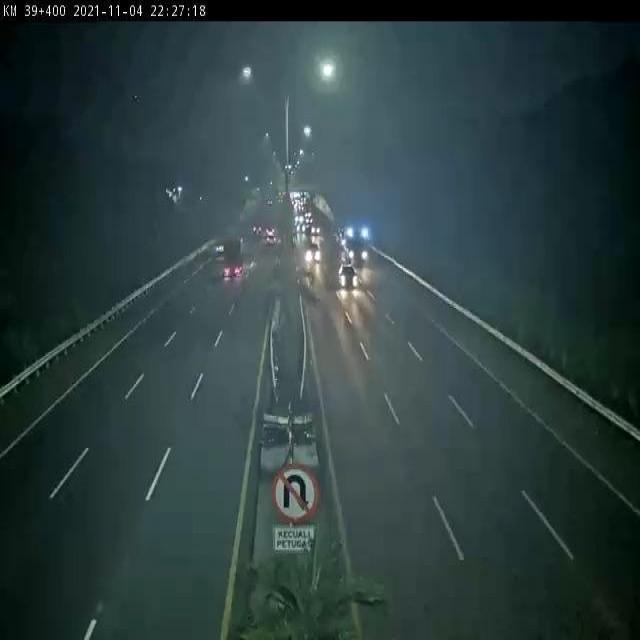car: (337, 264, 358, 289)
truck-m-: (224, 233, 249, 279)
